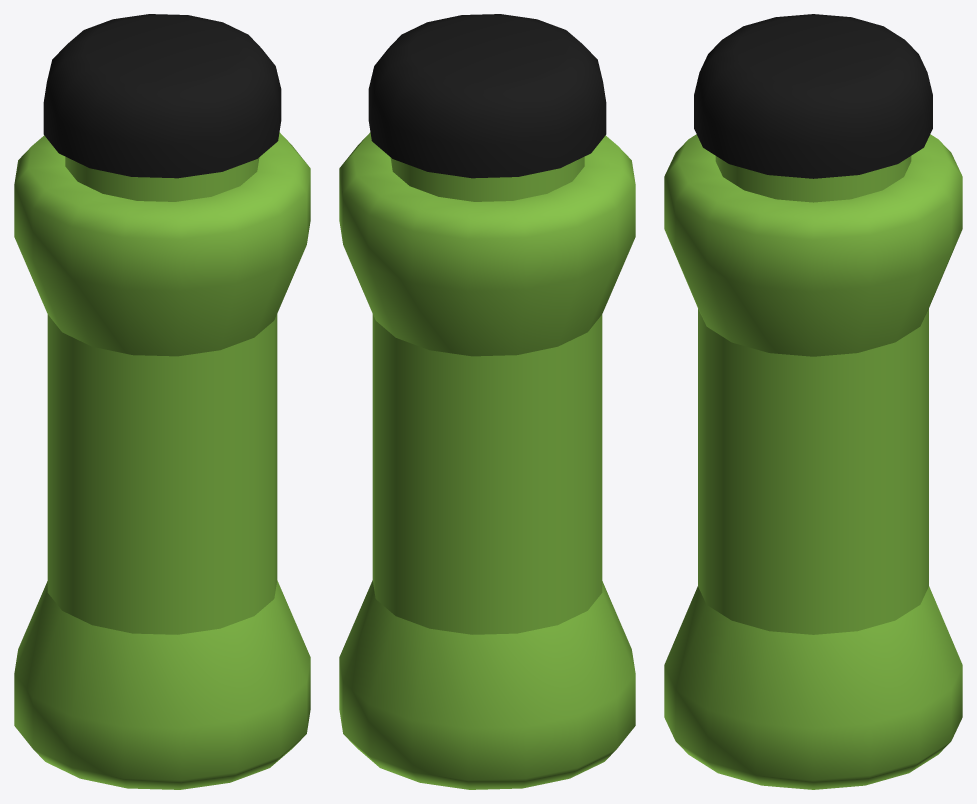
File: BottleVegetable_00.fbx
The picture shows the model from 3 angles, left to right: view 1: azimuth 30°, elevation 25°; view 2: azimuth 150°, elevation 25°; view 3: azimuth 270°, elevation 25°; orthographic projection.
Parts seen in each view (by area): view 1: BottleVegetable_00; view 2: BottleVegetable_00; view 3: BottleVegetable_00.
Part boxes in pixels (<box>): BottleVegetable_00: <box>14,14,310,789</box>; BottleVegetable_00: <box>339,14,635,789</box>; BottleVegetable_00: <box>664,14,962,789</box>.
Bounding box in the file's own units: 17.51 × 44.21 × 17.51.
